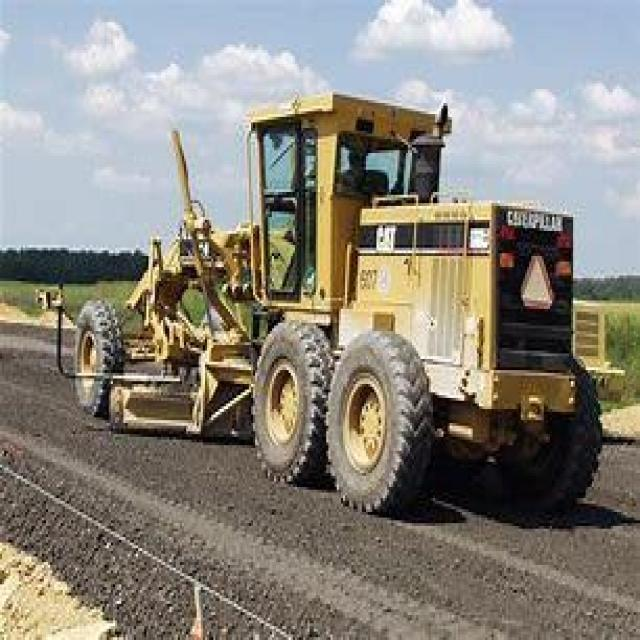buldozerpayloadergrader: (48, 66, 619, 528)
